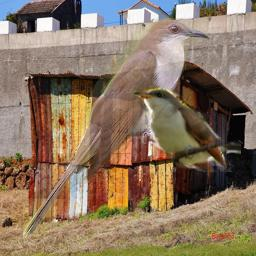Cuckoo: (23, 18, 212, 238), (129, 80, 241, 172)
